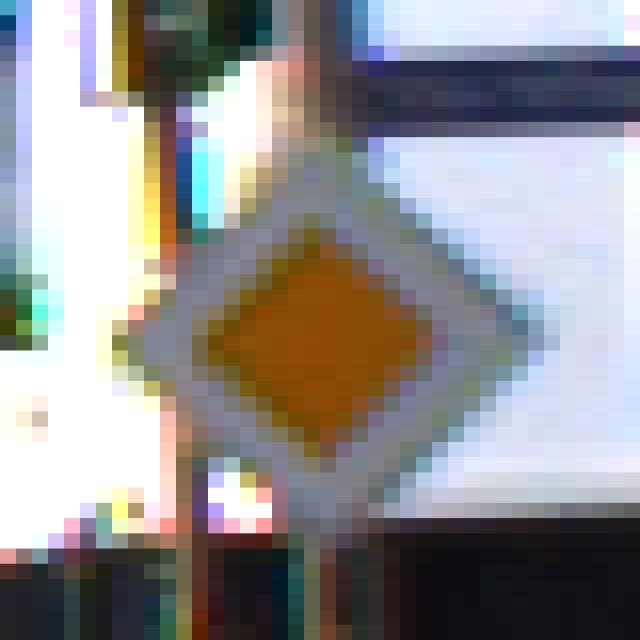Main Road: (97, 92, 561, 565)
